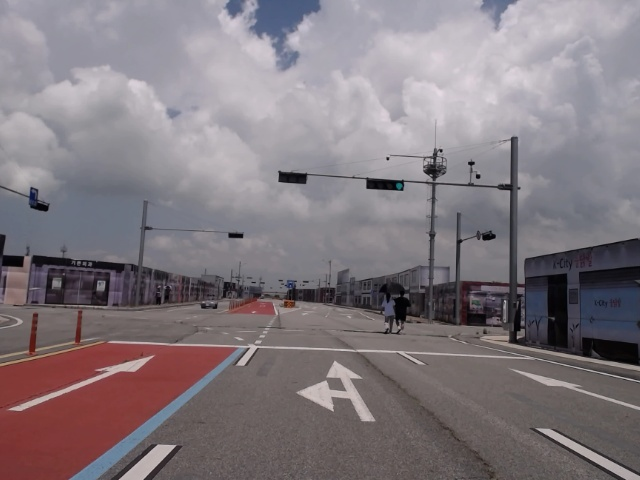straight_green_4: (365, 178, 404, 191)
